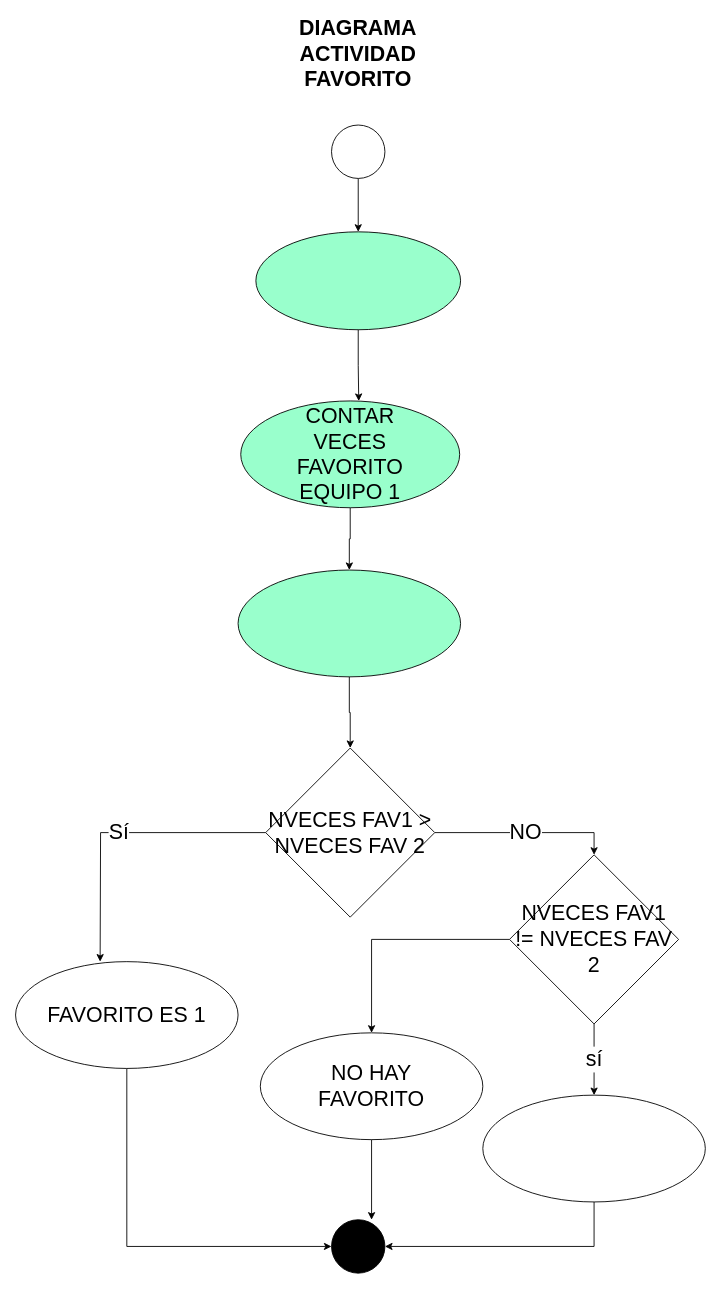
Image size: 721x1289. Some labels were removed from this diagram. The centre of each missing label's shape, as x and y in pixels:
CONTAR VECES FAVORITO EQUIPO 2: (349,623)
FAVORITO ES 2: (593,1148)
LEER APUESTAS DEL PARTIDO: (358,280)
